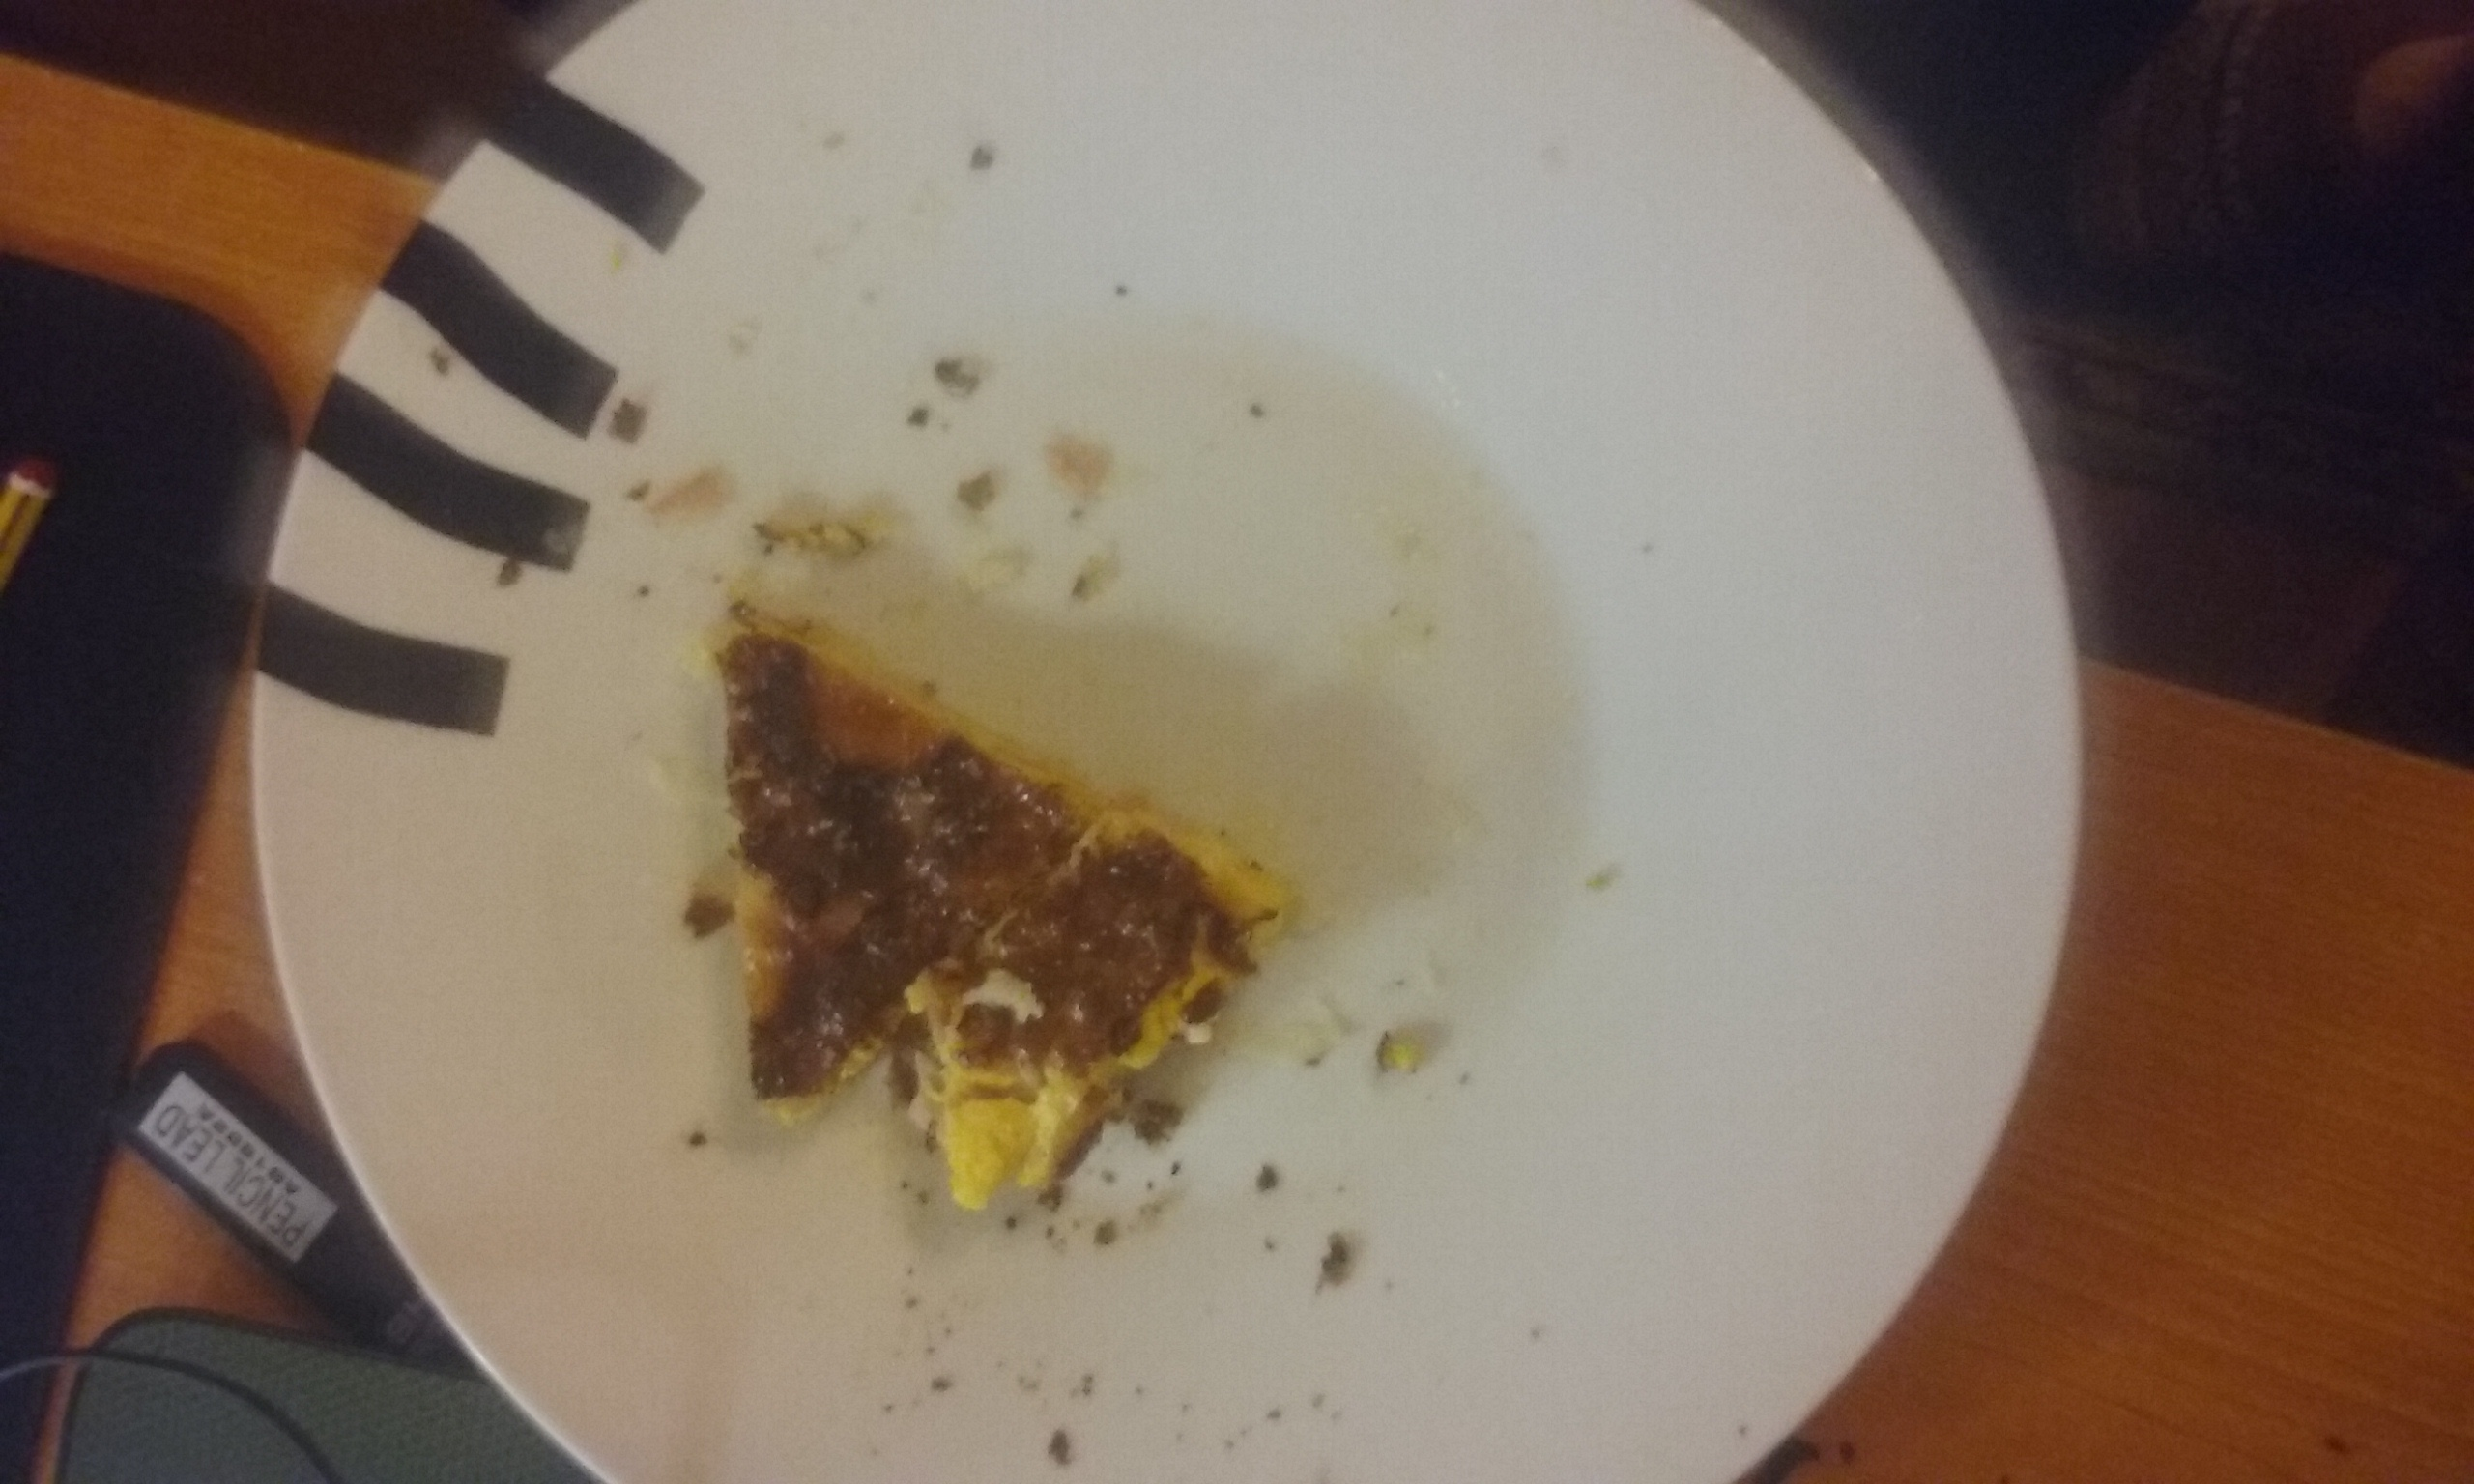21-40: (300, 9, 2075, 1484)
